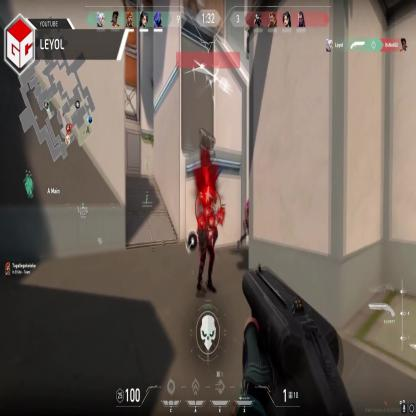enemy: (238, 190, 254, 248)
enemy_head: (248, 194, 254, 204)
